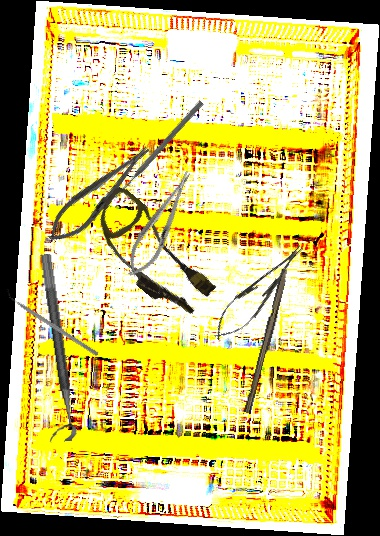Cannula: (76, 183, 228, 326)
Chopper: (3, 287, 102, 357)
Fixation Ring: (23, 253, 79, 444)
Needle Holder: (39, 136, 160, 252), (206, 237, 312, 348), (118, 165, 203, 284)
Pusher: (112, 99, 205, 201)
Scalpel Handle: (243, 268, 291, 415)
